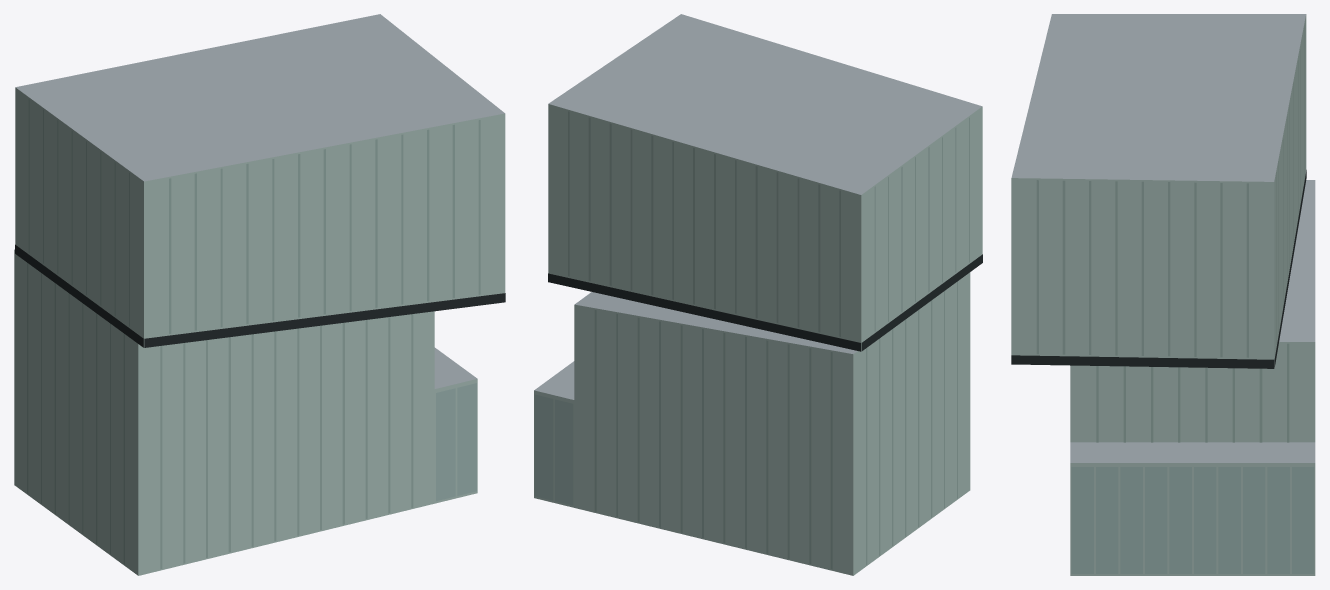
The model's file is clt-unc-charlotte-center-city.glb.
The picture shows the model from 3 angles, left to right: view 1: azimuth 30°, elevation 25°; view 2: azimuth 150°, elevation 25°; view 3: azimuth 270°, elevation 25°; orthographic projection. The views are drawn at different scales.
Parts seen in each view (by area): view 1: UNC Charlotte Center City; view 2: UNC Charlotte Center City; view 3: UNC Charlotte Center City.
Part boxes in pixels (box(x1,y1,x2,y2)): UNC Charlotte Center City: box(14, 14, 505, 575); UNC Charlotte Center City: box(534, 14, 982, 575); UNC Charlotte Center City: box(1011, 14, 1315, 575).
Size of the model in its own units: 47.3 by 52 by 36.21.
